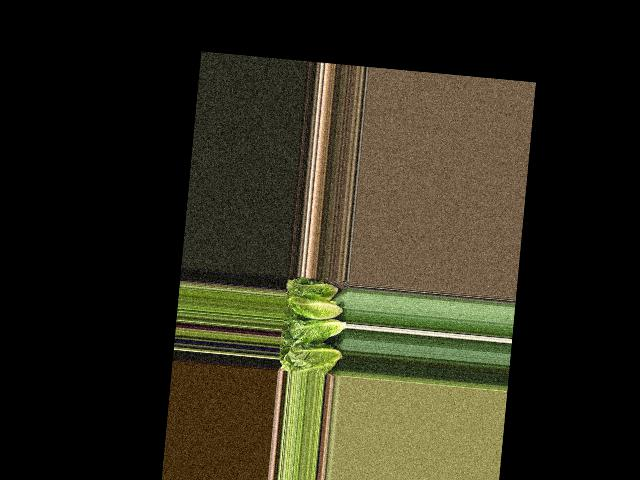lettuce: (285, 279, 336, 299)
